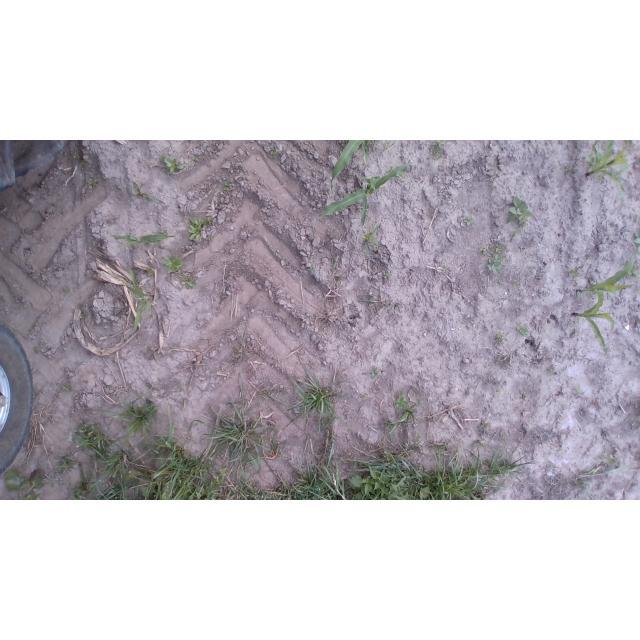Maize: (313, 162, 414, 236), (571, 289, 617, 360), (584, 141, 633, 195), (329, 140, 379, 192), (574, 256, 637, 297), (122, 270, 154, 342), (112, 230, 177, 250), (358, 221, 383, 255)
Weeds: (504, 194, 533, 226), (161, 255, 187, 278), (160, 153, 187, 173), (187, 215, 205, 242), (429, 140, 448, 161), (486, 257, 504, 278), (394, 392, 410, 412), (517, 322, 532, 339), (181, 278, 200, 291), (369, 365, 380, 382), (492, 331, 505, 345), (87, 175, 101, 188), (463, 213, 473, 230), (220, 178, 233, 191), (382, 269, 394, 282), (61, 382, 74, 394), (307, 261, 317, 275), (511, 228, 522, 240), (479, 244, 488, 258), (562, 162, 572, 174), (490, 246, 505, 254), (73, 151, 83, 162), (78, 312, 89, 320), (61, 285, 69, 296), (204, 217, 214, 225), (270, 149, 278, 159), (395, 173, 405, 179), (76, 300, 83, 308), (208, 236, 215, 243)
